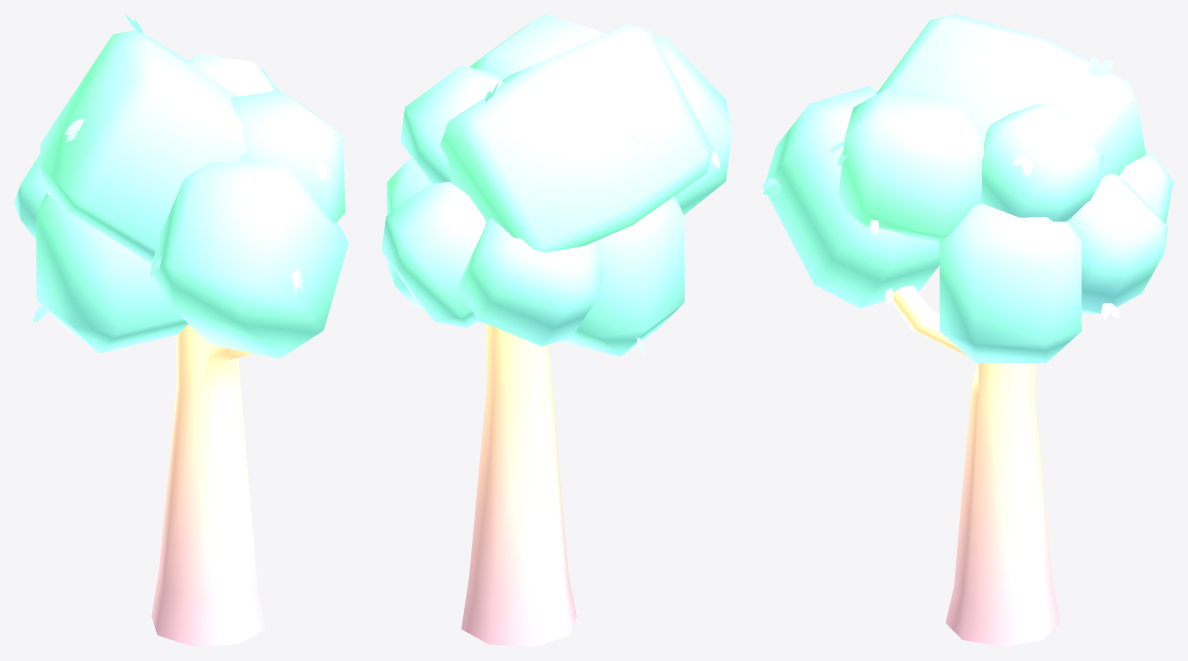
File: Tree_1.glb
3 renders of one model, left to right at view 1: azimuth 30°, elevation 25°; view 2: azimuth 150°, elevation 25°; view 3: azimuth 270°, elevation 25°, orthographic. The views are drawn at different scales.
Parts seen in each view (by area): view 1: Tree_Material #22_0; view 2: Tree_Material #22_0; view 3: Tree_Material #22_0.
Boxes of the visible parts, x1=… form: Tree_Material #22_0: x1=14, y1=14, x2=351, y2=646; Tree_Material #22_0: x1=381, y1=14, x2=732, y2=646; Tree_Material #22_0: x1=761, y1=14, x2=1173, y2=646.
Size of the model in its own units: 4.56 by 9.44 by 6.22.
